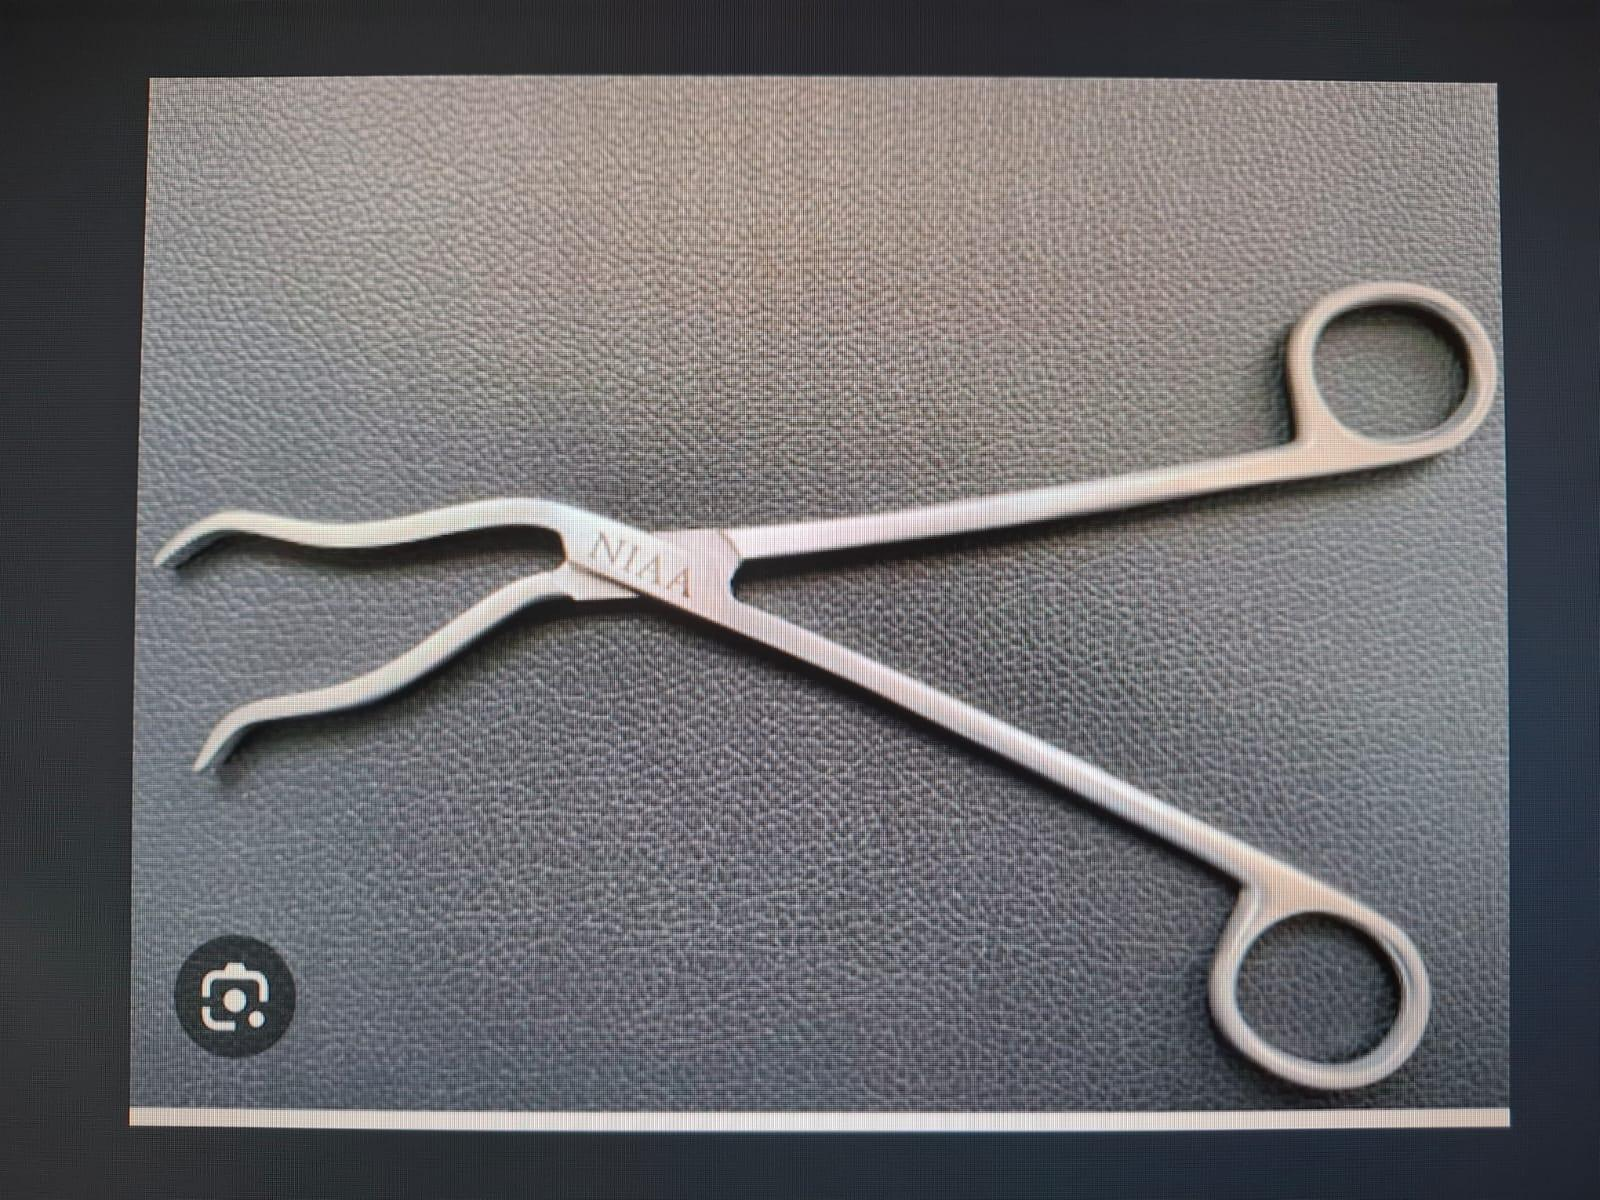Cheatle Forceps: (154, 260, 1506, 1102)
